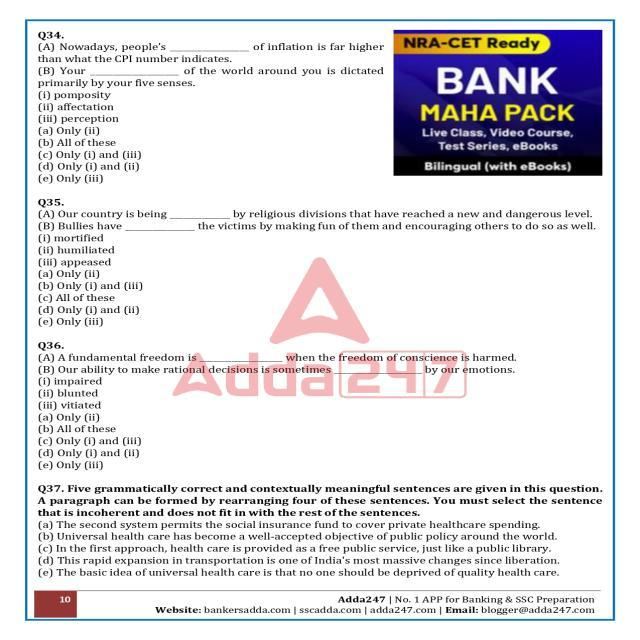Answer_Block: (28, 514, 612, 584)
Question_Answer_Block: (28, 19, 612, 188), (28, 194, 612, 334), (28, 338, 612, 472), (28, 478, 612, 584)
Question_Block: (26, 372, 610, 473), (28, 18, 612, 88), (28, 194, 612, 232), (28, 338, 612, 376), (28, 479, 612, 515)
Question_Paper_Area: (28, 19, 612, 592)
